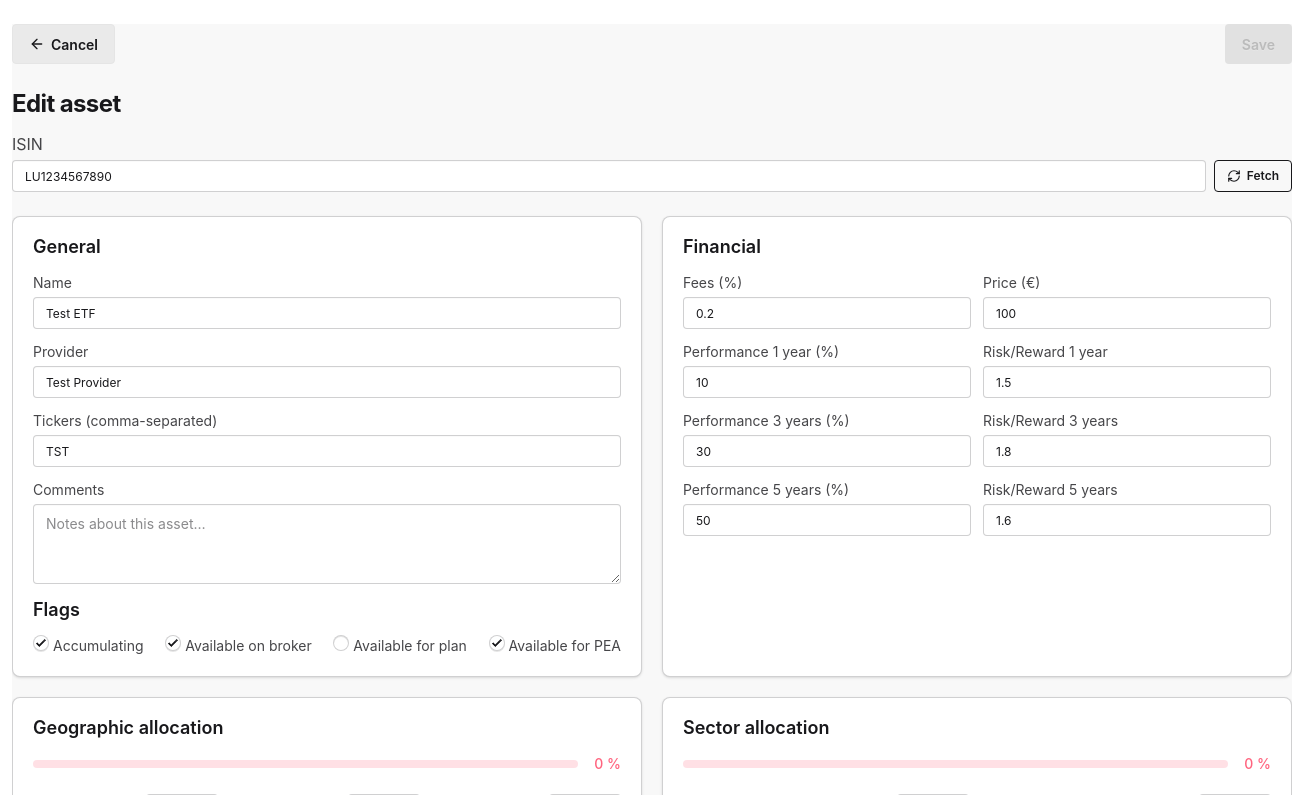
Test: AssetEditPage - form › enables save button after a form change
Replace the text in the field with test id "name" with "Updated ETF" at (327, 313), box x1=33 y1=297 x2=621 y2=329
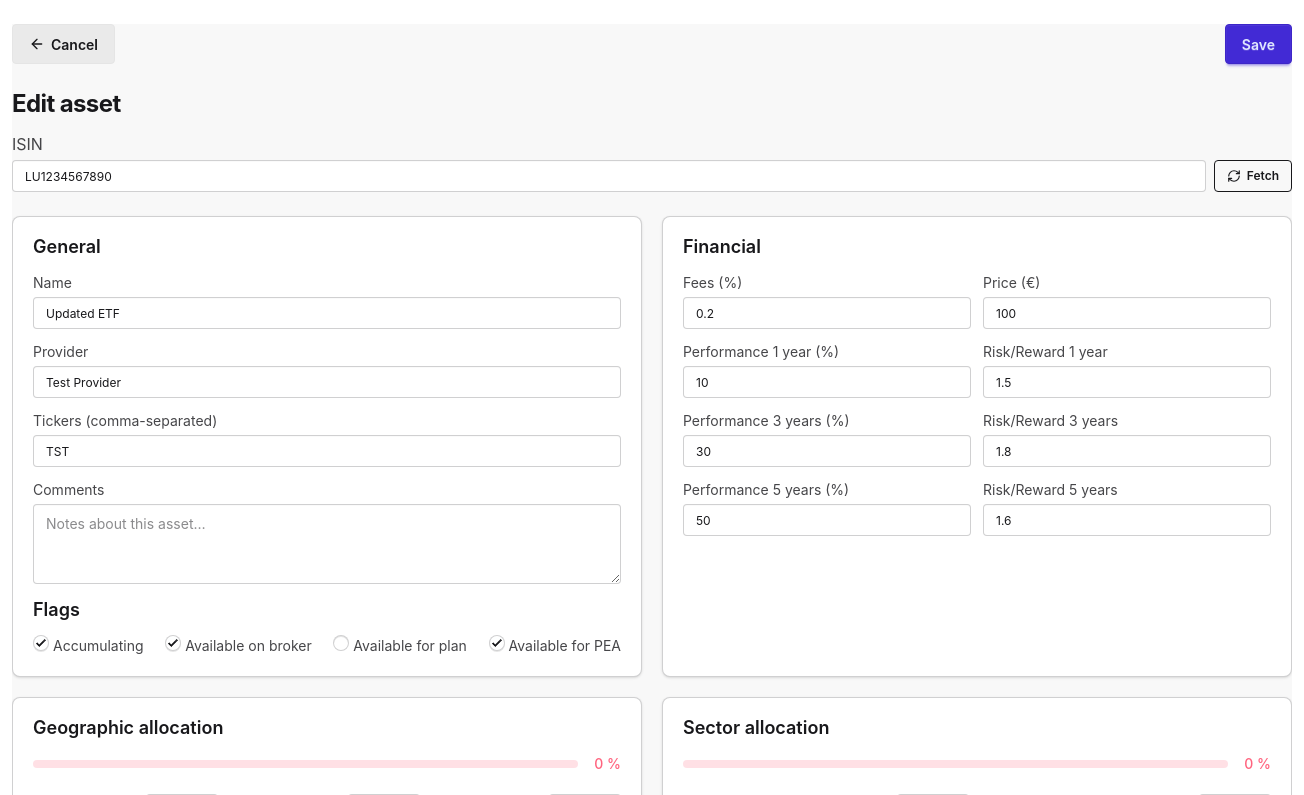
Now the button with test id "save-button" is enabled, box x1=1225 y1=24 x2=1292 y2=64
